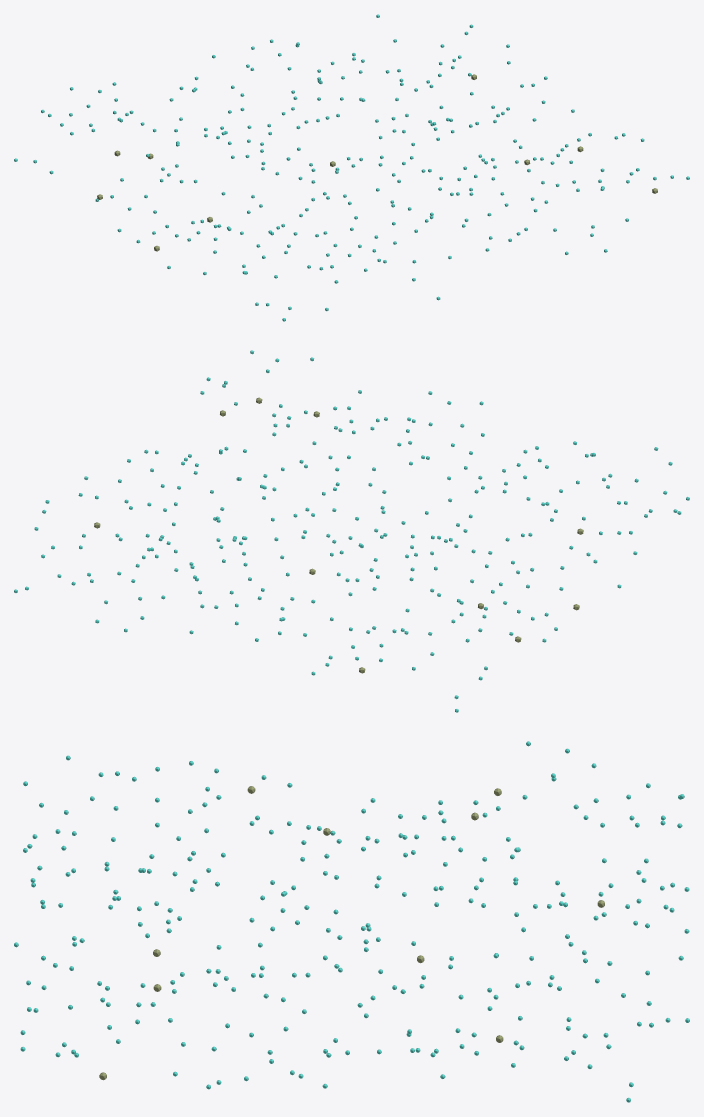
Rendered from mesh-lattice-high.glb.
The picture shows the model from 3 angles, top to bottom: view 1: azimuth 30°, elevation 25°; view 2: azimuth 150°, elevation 25°; view 3: azimuth 270°, elevation 25°; orthographic projection. The views are drawn at different scales.
Parts seen in each view (by area): view 1: lattice_nodes; view 2: lattice_nodes; view 3: lattice_nodes.
Part boxes in pixels (x1,y1,x2,y2): lattice_nodes: (14,14,689,321); lattice_nodes: (14,350,689,712); lattice_nodes: (14,741,689,1102).
Bounding box in the file's own units: 5.35 × 0.8898 × 5.34.
